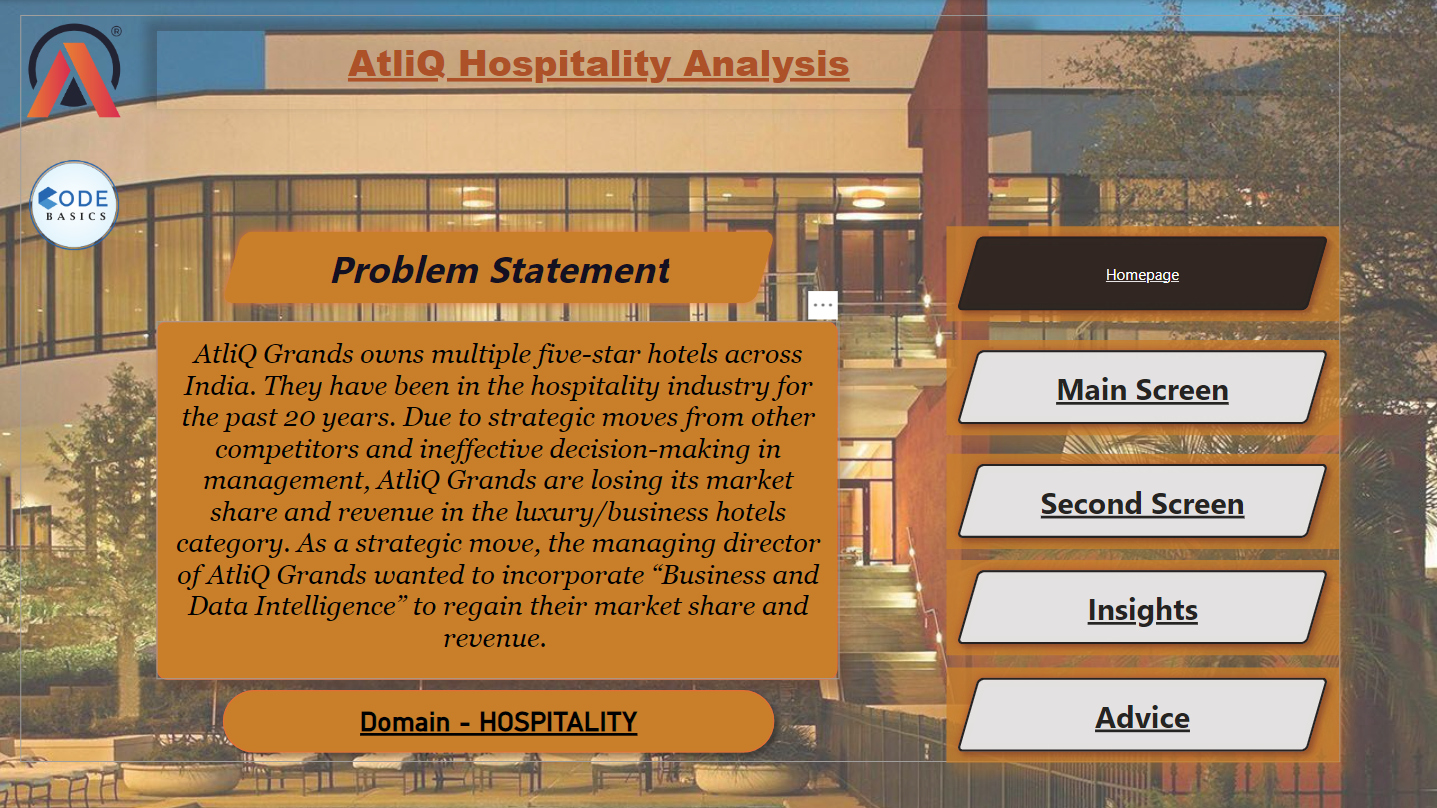

This screenshot's page, from the dashboard's own definition file:
{"tool":"powerbi","page":{"name":"Homepage","canvas":[1280,720],"ordinal":0},"visuals":[{"type":"image","box":[19.3,13.3,97.7,97.7],"z":0,"group":"g1"},{"type":"textbox","box":[141.1,27.8,787.5,69.9],"z":1000,"group":"g1"},{"type":"image","box":[19.3,135.1,96.5,96.5],"z":2000,"group":"g1"},{"type":"textbox","box":[141.1,285.9,606.6,319.6],"z":3000,"group":"g1"},{"type":"shape","box":[190.6,197.8,508.9,79.6],"z":4000,"group":"g1"},{"type":"shape","box":[190.6,605.5,508.9,73.6],"z":5000,"group":"g1"},{"type":"pageNavigator","box":[844.2,302.7,349.7,84.4],"z":6000,"group":"g1"},{"type":"pageNavigator","box":[844.2,404.1,349.7,84.4],"z":7000,"group":"g1"},{"type":"pageNavigator","box":[844.2,201.4,349.7,84.4],"z":8000,"group":"g1"},{"type":"pageNavigator","box":[844.2,498.1,349.7,84.4],"z":9000,"group":"g1"},{"type":"group","id":"g1","title":"Group 1","box":[19.3,13.3,1174.7,665.7],"z":9002},{"type":"pageNavigator","box":[844.2,594.6,349.7,84.4],"z":10000,"group":"g1"}]}

Visuals, with their boxes in screenshot pixels (x1, y1, x2, y2), scaled from the page's 1280x720 canvas onto the 1437x808 screenshot:
image: {"x1": 22, "y1": 15, "x2": 131, "y2": 125}
textbox: {"x1": 158, "y1": 31, "x2": 1042, "y2": 110}
image: {"x1": 22, "y1": 152, "x2": 130, "y2": 260}
textbox: {"x1": 158, "y1": 321, "x2": 839, "y2": 680}
shape: {"x1": 214, "y1": 222, "x2": 785, "y2": 311}
shape: {"x1": 214, "y1": 680, "x2": 785, "y2": 762}
pageNavigator: {"x1": 948, "y1": 340, "x2": 1340, "y2": 434}
pageNavigator: {"x1": 948, "y1": 453, "x2": 1340, "y2": 548}
pageNavigator: {"x1": 948, "y1": 226, "x2": 1340, "y2": 321}
pageNavigator: {"x1": 948, "y1": 559, "x2": 1340, "y2": 654}
"Group 1" group: {"x1": 22, "y1": 15, "x2": 1340, "y2": 762}
pageNavigator: {"x1": 948, "y1": 667, "x2": 1340, "y2": 762}
